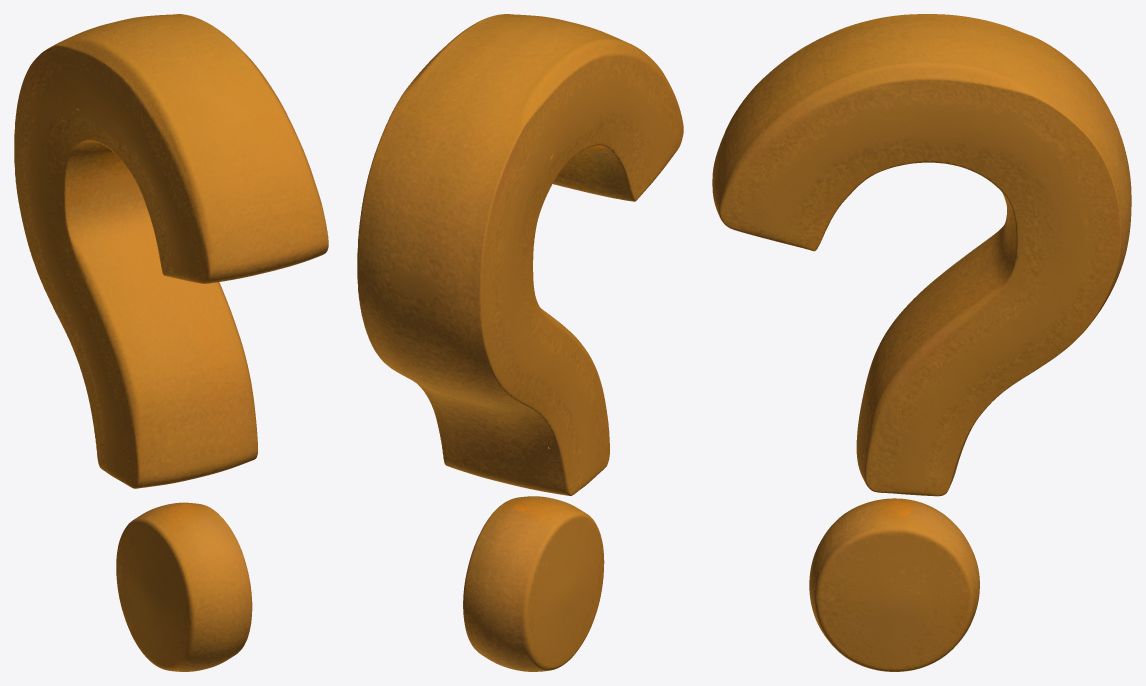
Rendered from PytanieZolte.glb.
3 views of the same model, side by side, from view 1: azimuth 30°, elevation 25°; view 2: azimuth 150°, elevation 25°; view 3: azimuth 270°, elevation 25° (orthographic). The views are drawn at different scales.
Parts seen in each view (by area): view 1: tripo_node_5ae3840f; view 2: tripo_node_5ae3840f; view 3: tripo_node_5ae3840f.
Part boxes in pixels (<box>): tripo_node_5ae3840f: <box>14,14,328,671</box>; tripo_node_5ae3840f: <box>357,14,683,671</box>; tripo_node_5ae3840f: <box>712,14,1131,671</box>.
Bounding box in the file's own units: 0.2158 × 1 × 0.6027.
1 material, 1 textured.
